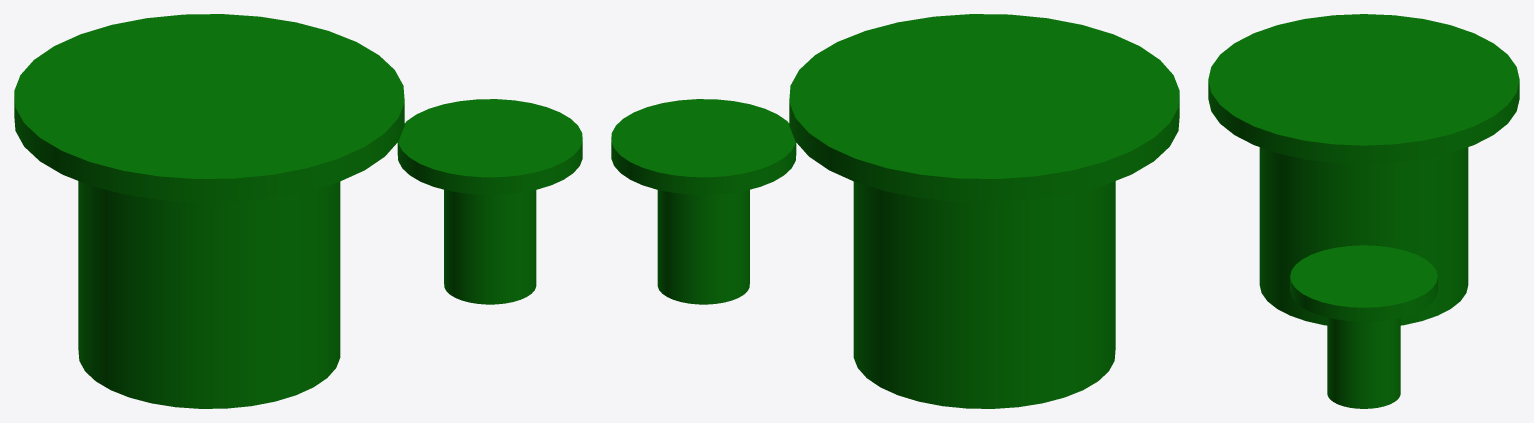
The model's file is Image-1710907700749-2280694911152_50-TG51.fbx.
3 views of the same model, side by side, from view 1: azimuth 30°, elevation 25°; view 2: azimuth 150°, elevation 25°; view 3: azimuth 270°, elevation 25° (orthographic). The views are drawn at different scales.
Parts seen in each view (by area): view 1: /50-TG51-NOZZ-4, /50-TG51-NOZZ-2; view 2: /50-TG51-NOZZ-4, /50-TG51-NOZZ-2; view 3: /50-TG51-NOZZ-4, /50-TG51-NOZZ-2.
Part boxes in pixels (x1,y1,x2,y2): /50-TG51-NOZZ-4: (14,14,404,408); /50-TG51-NOZZ-2: (397,99,582,304); /50-TG51-NOZZ-4: (789,14,1179,408); /50-TG51-NOZZ-2: (611,99,796,304); /50-TG51-NOZZ-4: (1208,14,1519,325); /50-TG51-NOZZ-2: (1290,245,1437,408).
Size of the model in its own units: 0.756 by 0.483 by 0.35.
